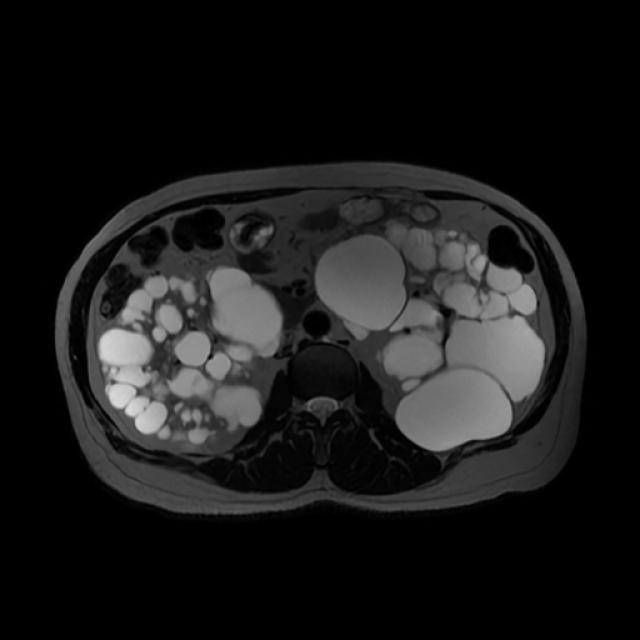sag: (97, 264, 283, 450)
sol: (312, 216, 543, 454)
